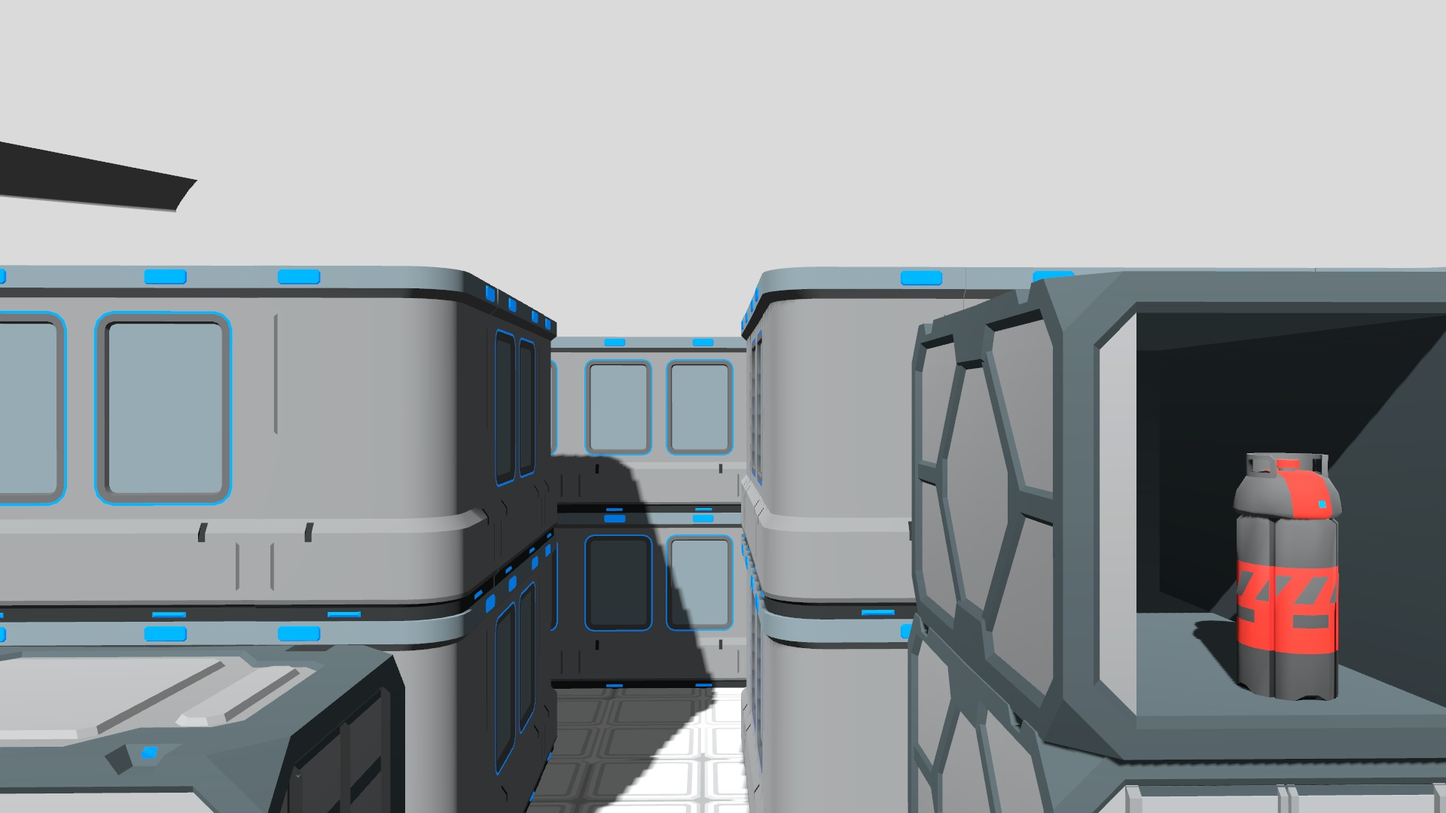red_barrel: (1229, 444, 1350, 709)
